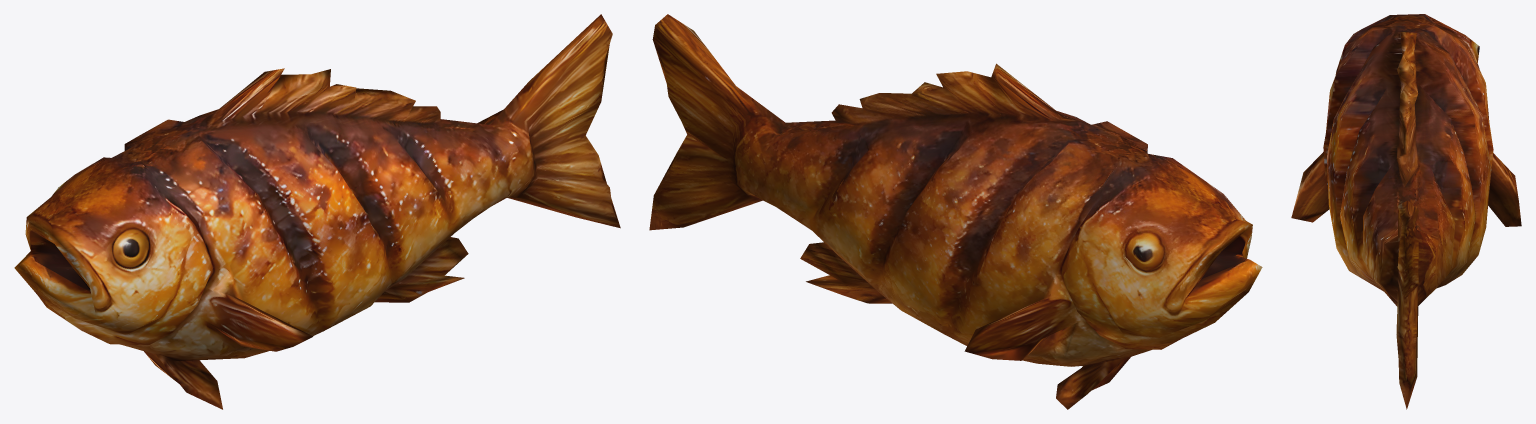
The model's file is meal_roastFish-v1.glb.
3 renders of one model, left to right at view 1: azimuth 30°, elevation 25°; view 2: azimuth 150°, elevation 25°; view 3: azimuth 270°, elevation 25°, orthographic. The views are drawn at different scales.
Parts seen in each view (by area): view 1: tripo_node_136f309f-9312-4609-adac-678ef4ffadf4; view 2: tripo_node_136f309f-9312-4609-adac-678ef4ffadf4; view 3: tripo_node_136f309f-9312-4609-adac-678ef4ffadf4.
Boxes of the visible parts, x1,y1,x2,y2 form: tripo_node_136f309f-9312-4609-adac-678ef4ffadf4: [14, 14, 620, 409]; tripo_node_136f309f-9312-4609-adac-678ef4ffadf4: [649, 14, 1262, 409]; tripo_node_136f309f-9312-4609-adac-678ef4ffadf4: [1291, 14, 1521, 409].
Bounding box in the file's own units: 0.9789 × 0.5001 × 0.3554.
1 material, 1 textured.
